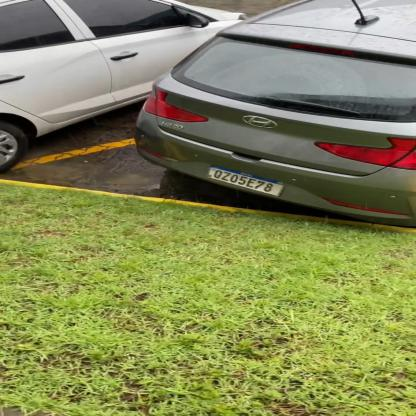Plate: (205, 159, 284, 198)
